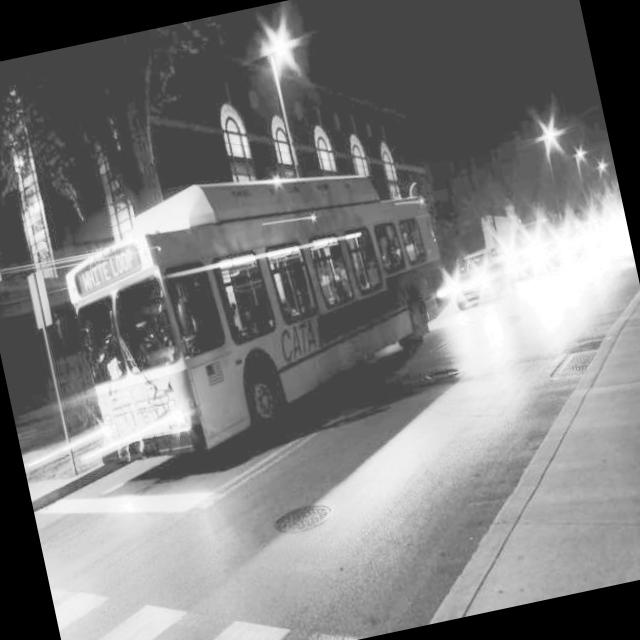Bus: (39, 108, 473, 504)
